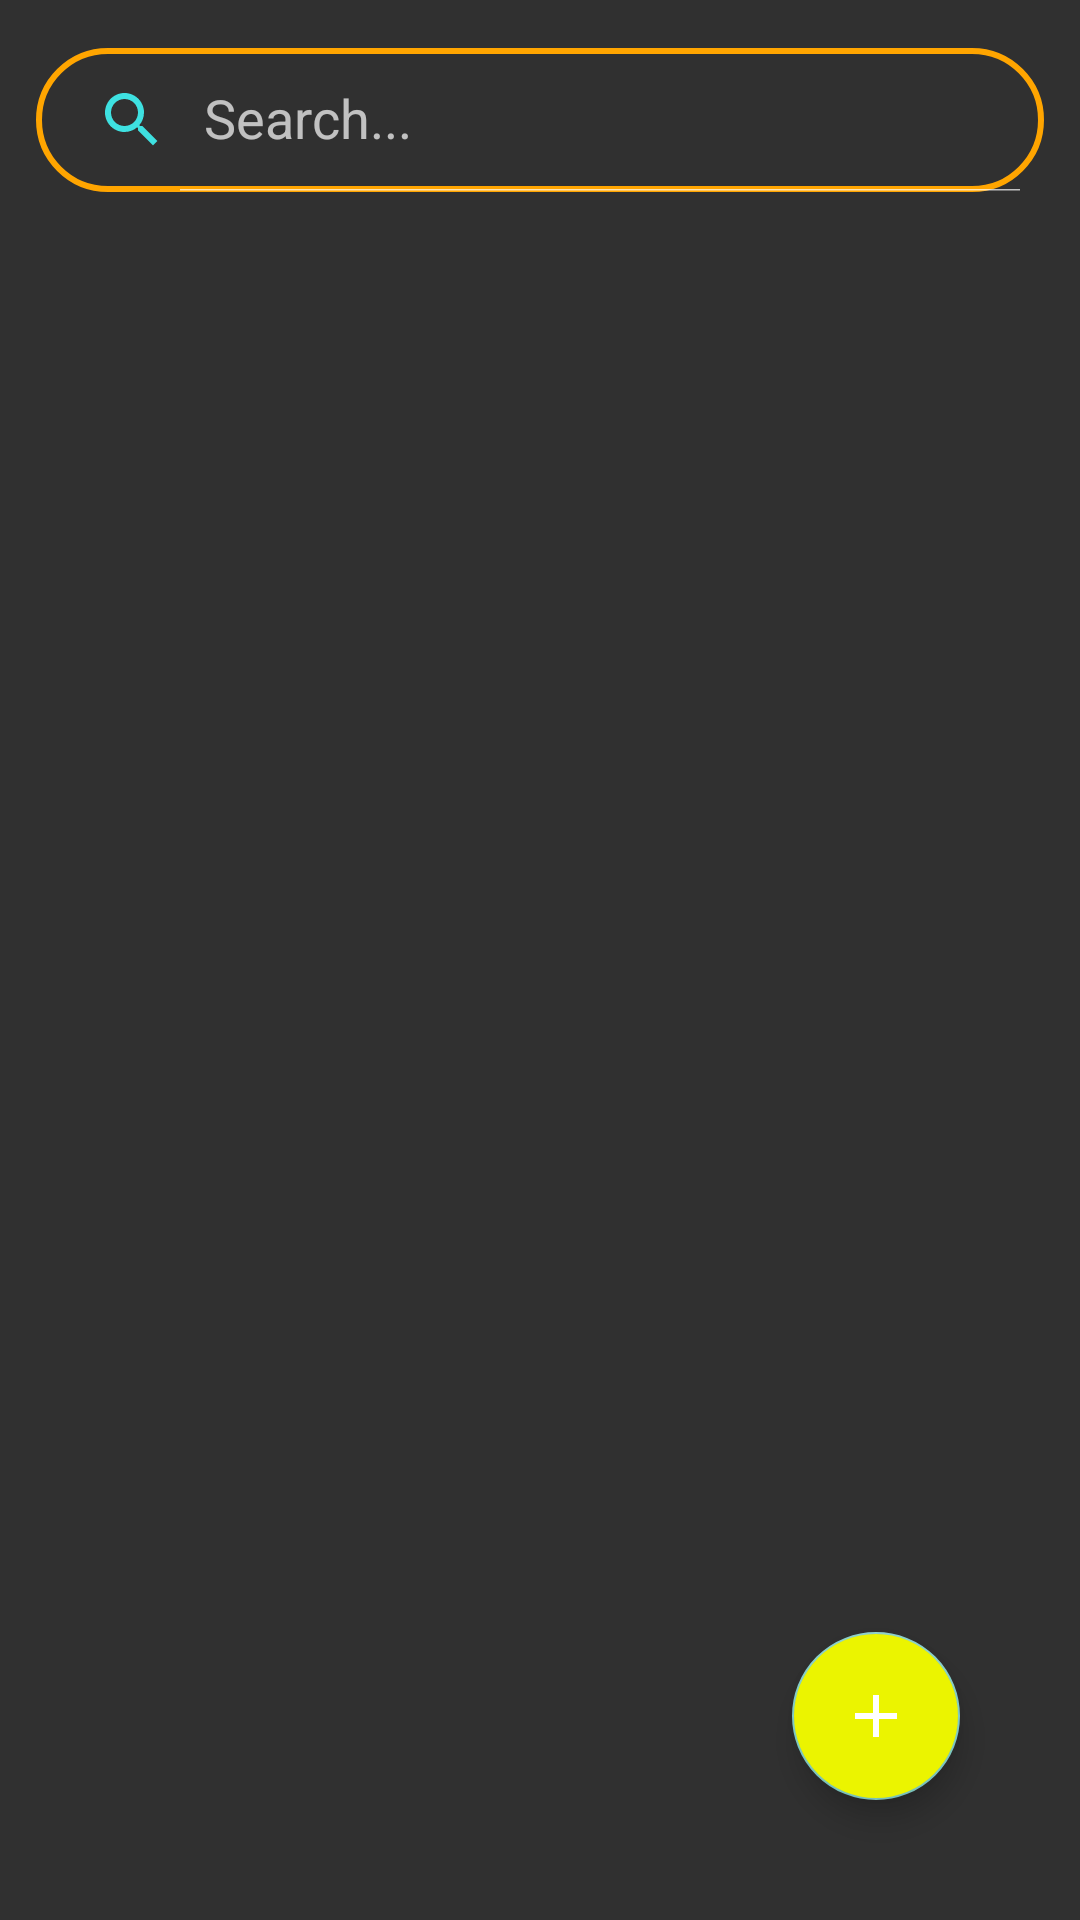

Point at icon controls on the screen. Image size 1080×1920, points as (x=x, y=y).
add: (x=876, y=1716)
